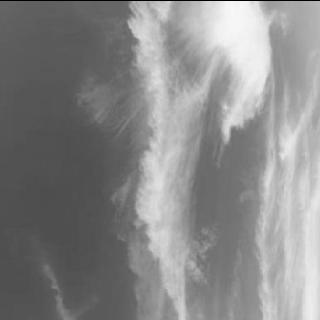Cirrocumulus: (93, 0, 320, 320)
